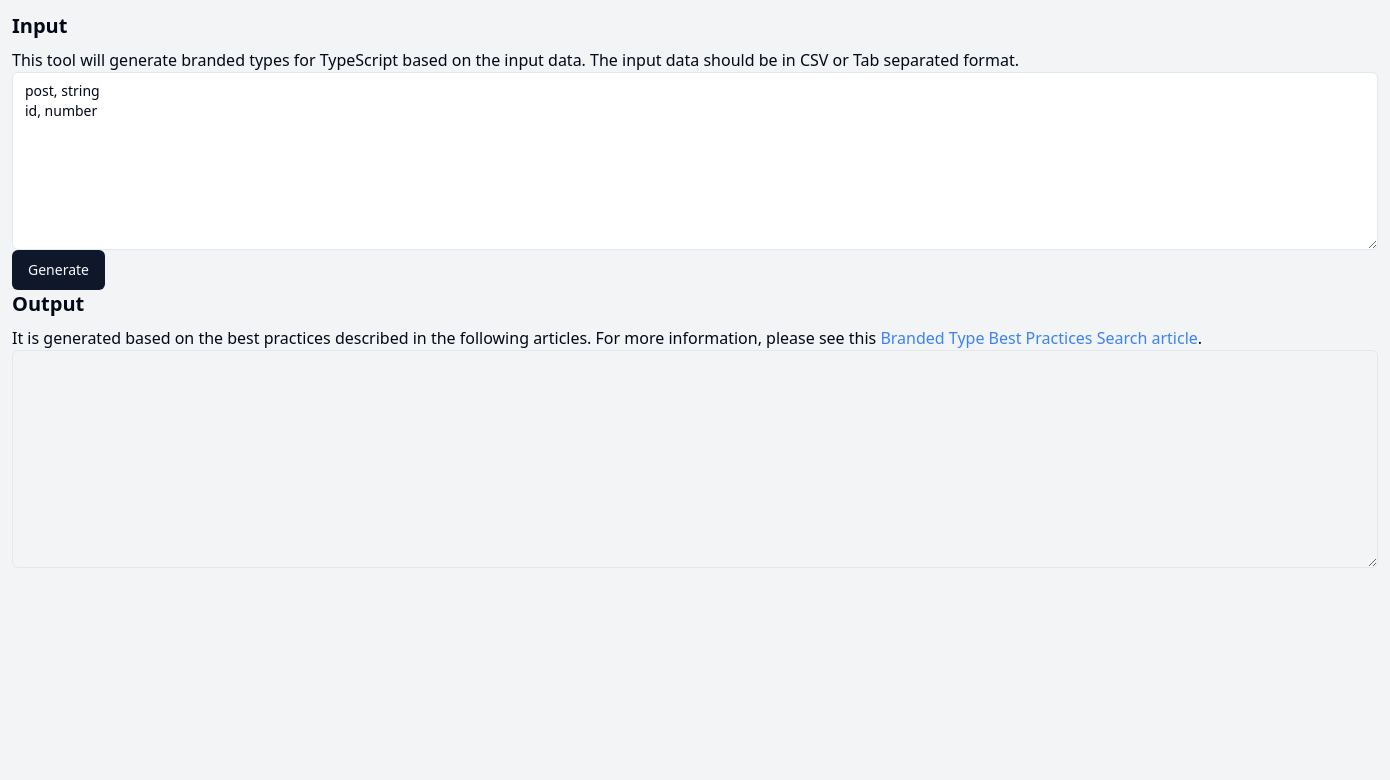
Test: Generator.tsx tests › 不正な形式で入力されたときにエラーメッセージが表示されること
# 不正な形式の入力
Replace the text in the text box named "Input Text" with "id," at (695, 161), box x1=12 y1=72 x2=1378 y2=250
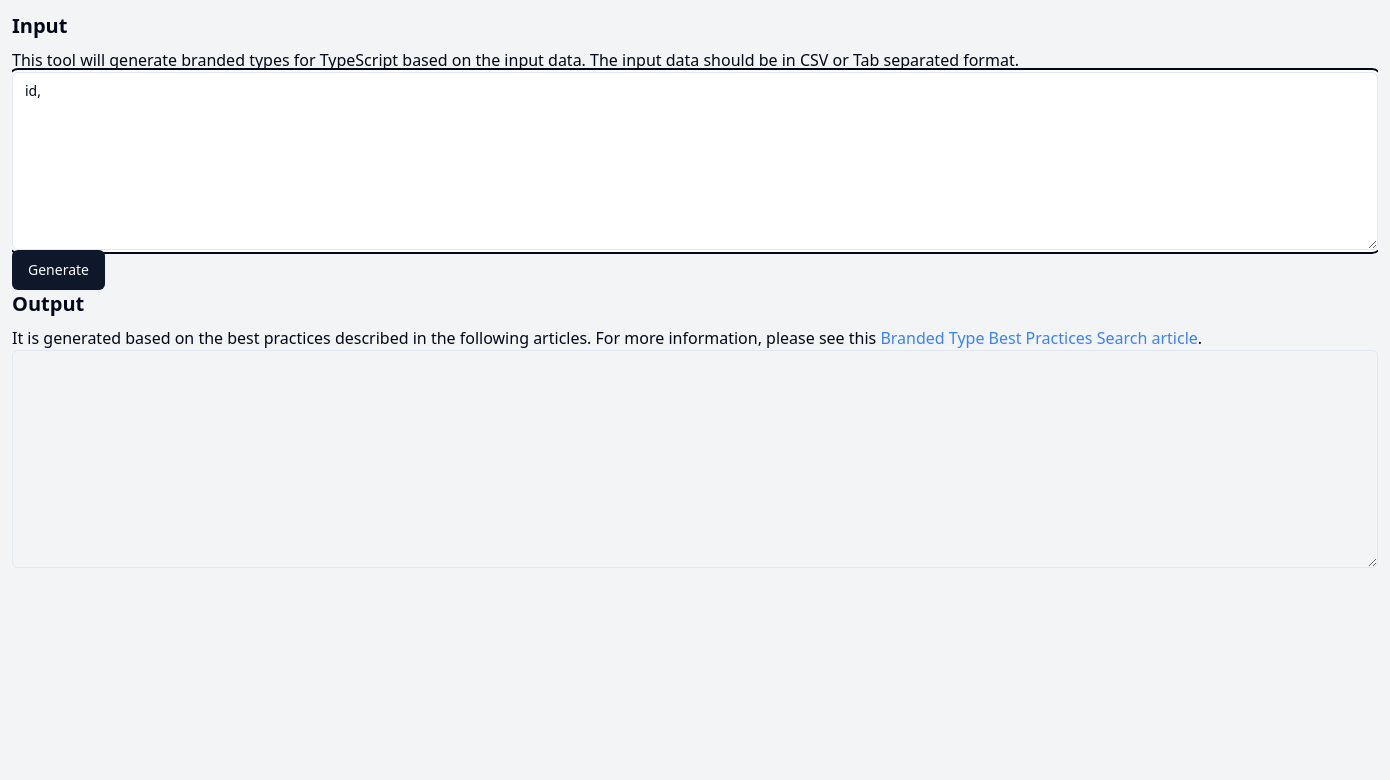
Click the button "Generate".
click(58, 270)  # box x1=12 y1=250 x2=105 y2=290
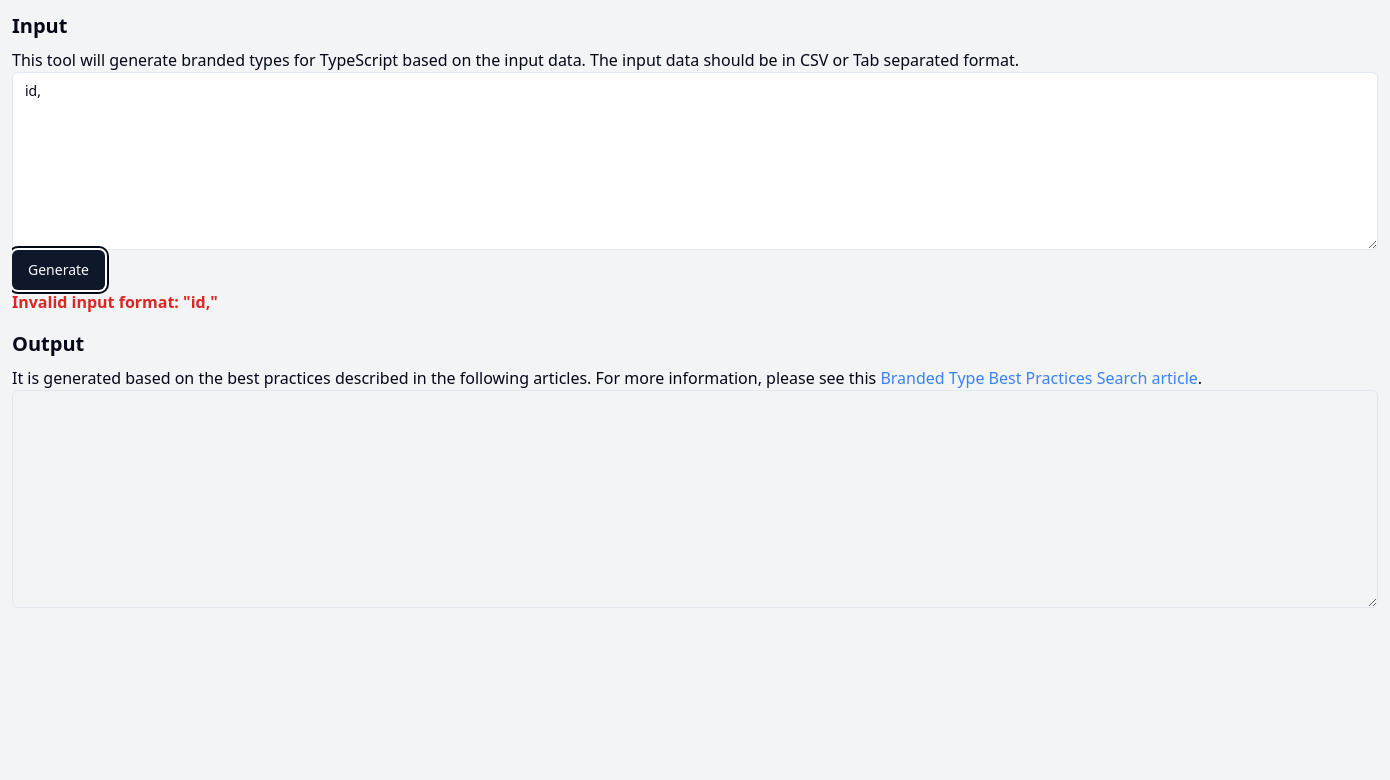
Expected: the text "Invalid input format: \"id,\"" is shown, x1=12 y1=291 x2=218 y2=313
